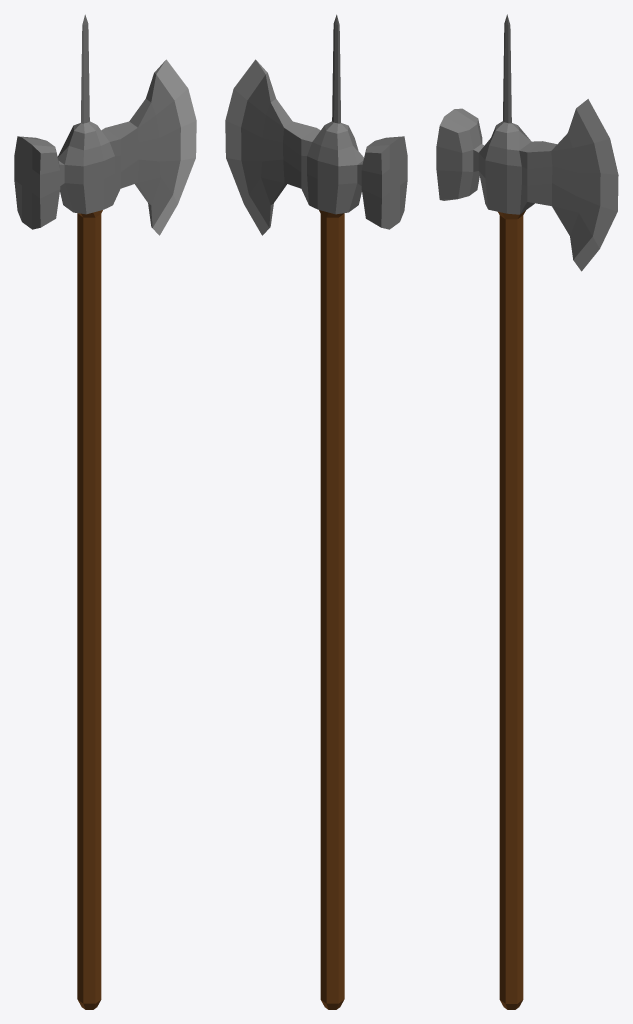
The model's file is Halberd.fbx.
3 views of the same model, side by side, from view 1: azimuth 30°, elevation 25°; view 2: azimuth 150°, elevation 25°; view 3: azimuth 330°, elevation 25° (orthographic).
Parts seen in each view (by area): view 1: Halberd; view 2: Halberd; view 3: Halberd.
Boxes of the visible parts, bbox=[...] form: Halberd: bbox=[14, 14, 196, 1009]; Halberd: bbox=[225, 14, 407, 1009]; Halberd: bbox=[436, 14, 618, 1009].
Size of the model in its own units: 43.96 by 246 by 11.56.
